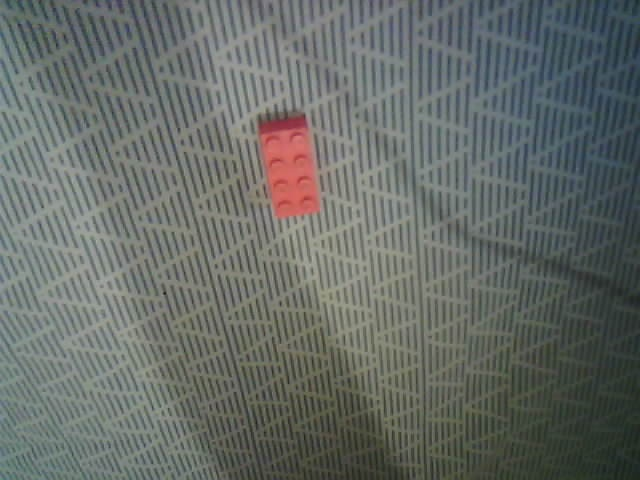lego: (258, 117, 322, 218)
